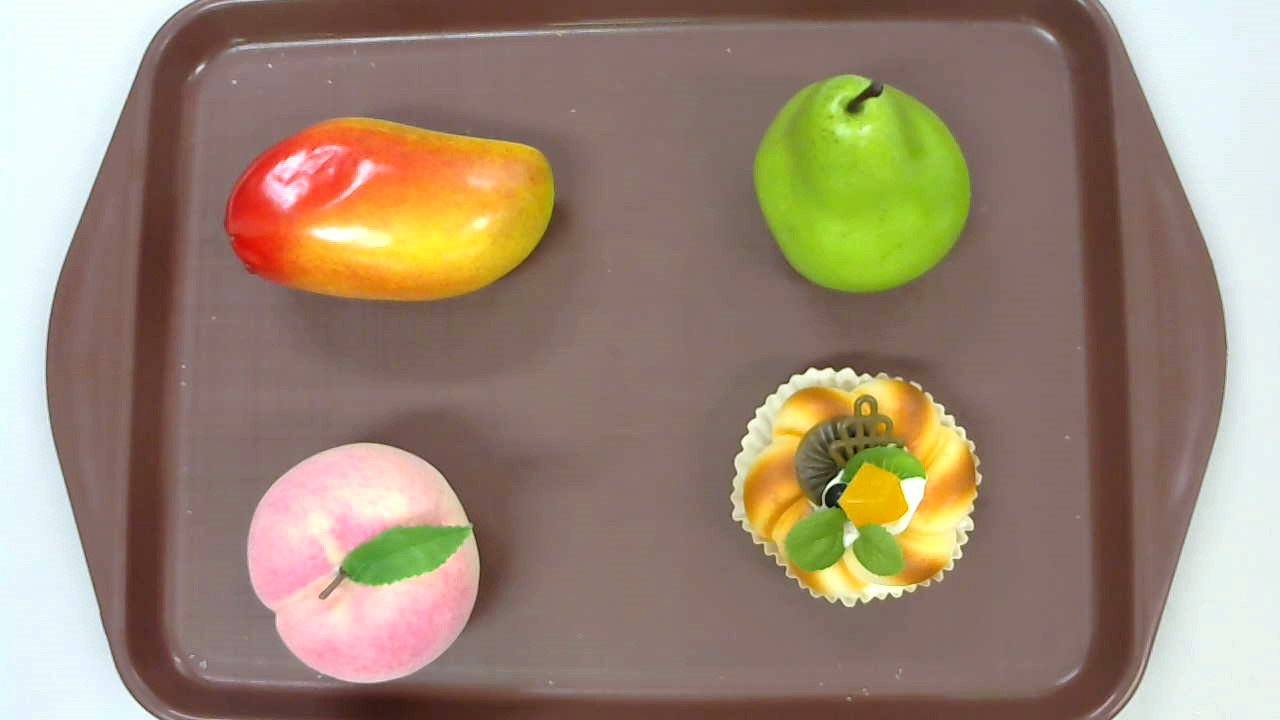fruit tart: (730, 366, 983, 606)
green pear: (753, 74, 972, 293)
peach: (247, 443, 481, 684)
red mango: (224, 118, 555, 303)
